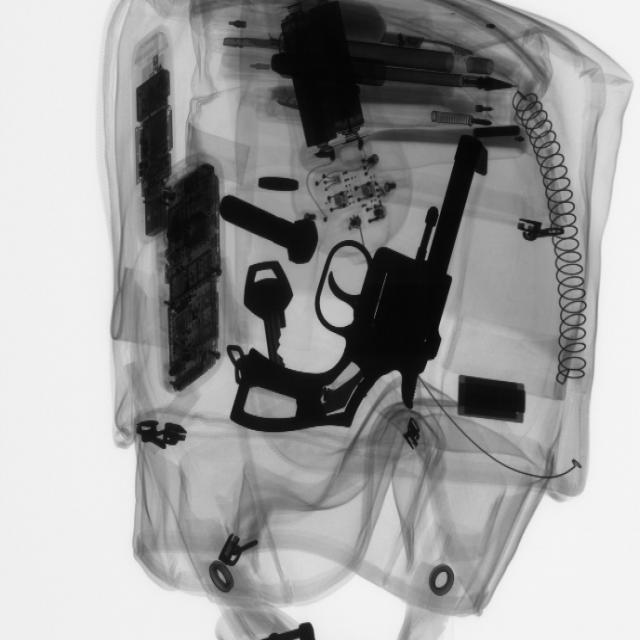GUN: (229, 132, 498, 435)
